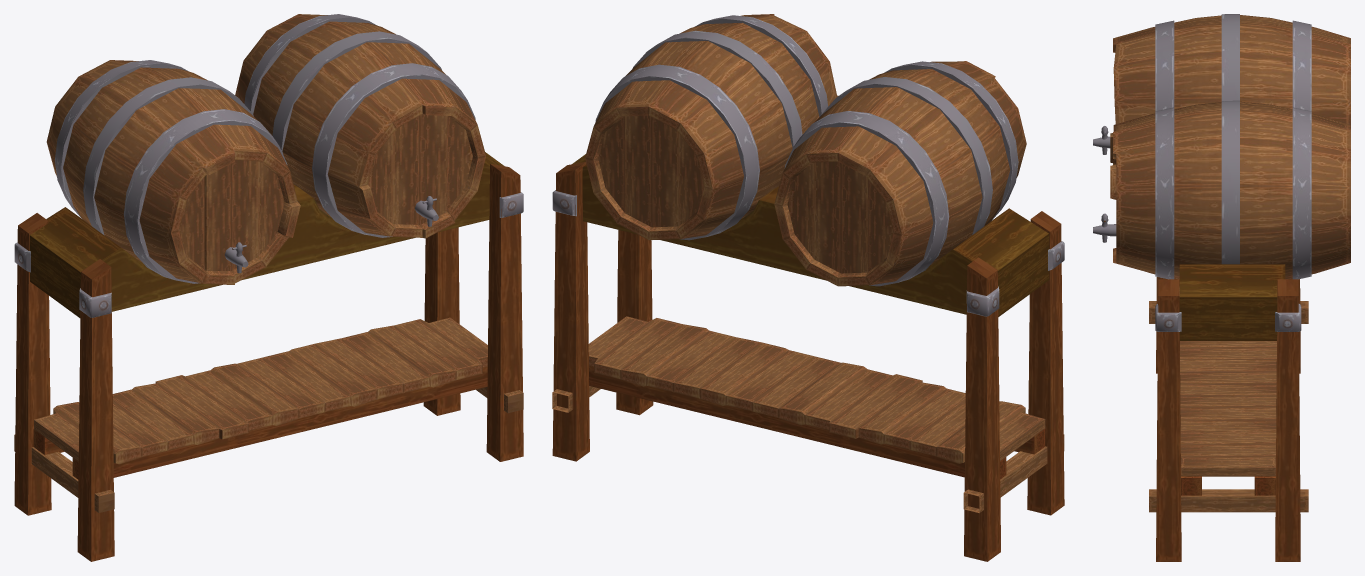
Rendered from prop_barrel_holder.glb.
The picture shows the model from 3 angles, left to right: view 1: azimuth 30°, elevation 25°; view 2: azimuth 150°, elevation 25°; view 3: azimuth 270°, elevation 25°; orthographic projection. The views are drawn at different scales.
Parts seen in each view (by area): view 1: Cube045, Cube045_1; view 2: Cube045, Cube045_1; view 3: Cube045, Cube045_1.
Boxes of the visible parts, bbox=[...] form: Cube045: bbox=[14, 14, 523, 561]; Cube045_1: bbox=[14, 14, 523, 317]; Cube045: bbox=[552, 14, 1064, 561]; Cube045_1: bbox=[552, 15, 1064, 316]; Cube045: bbox=[1104, 15, 1350, 561]; Cube045_1: bbox=[1093, 14, 1311, 331].
Bounding box in the file's own units: 1.36 × 1.26 × 0.741.
2 materials, 2 textured.
